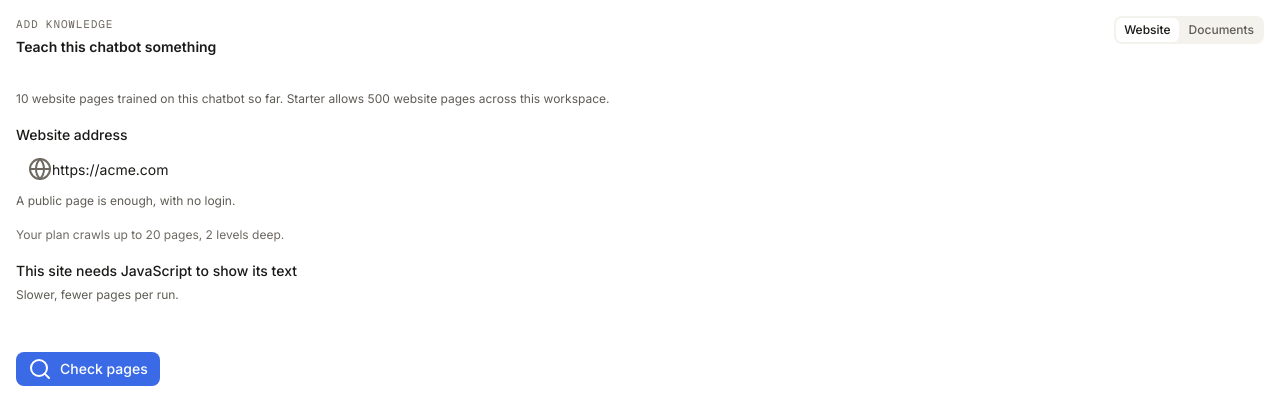
AddKnowledgePanel — the document flow › keeps uploading available when the plan states no document ceiling
Click the radio button labelled "Documents". click: (1221, 30)
box: [1181,18,1262,42]
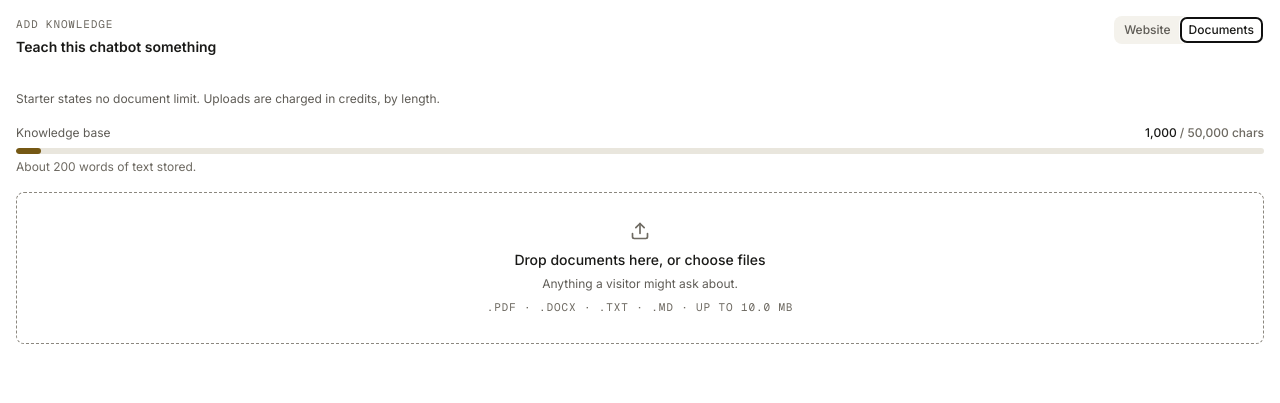
Check: the text "Starter states no document limit" is shown, box [16,91,440,106]
Check: the file field is shown, box [16,192,1264,344]
